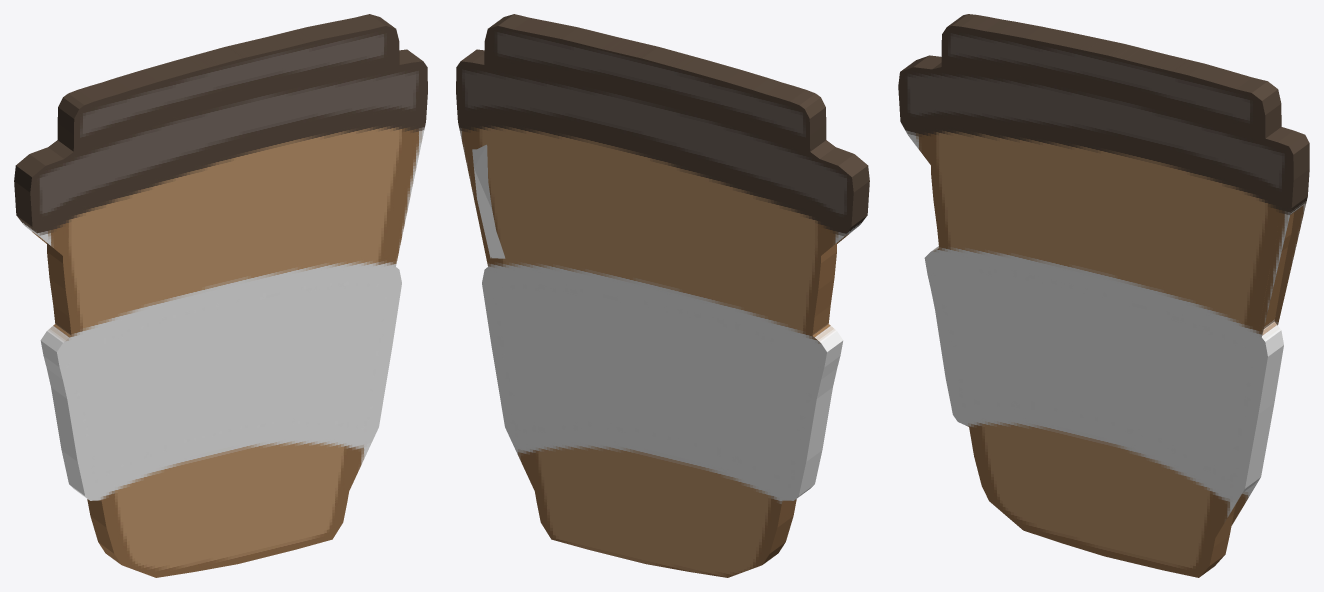
The model's file is coffee.fbx.
3 views of the same model, side by side, from view 1: azimuth 30°, elevation 25°; view 2: azimuth 150°, elevation 25°; view 3: azimuth 330°, elevation 25° (orthographic).
Visible parts, largest first — view 1: Plane.002; view 2: Plane.002, Plane; view 3: Plane.002.
Boxes of the visible parts, <box> form: Plane.002: <box>14,14,427,577</box>; Plane.002: <box>456,14,869,577</box>; Plane: <box>472,144,505,258</box>; Plane.002: <box>898,14,1309,577</box>.
Bounding box in the file's own units: 154 × 186 × 13.16.
Materials: 1 (1 with a texture image).
